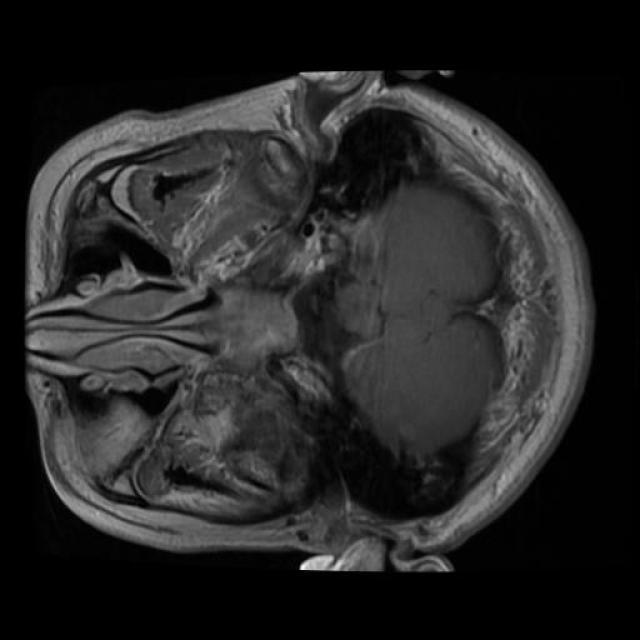Pituitary: (203, 287, 296, 362)
